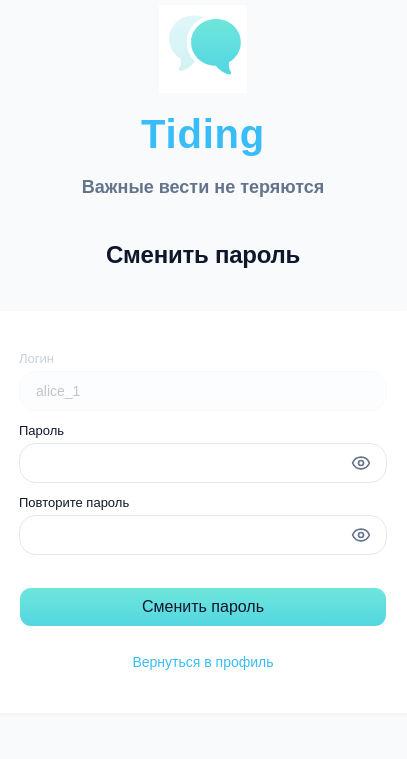
Scenario: ChangePasswordPage › shows a notice after a valid password form
In the password field labelled "Пароль": x=203, y=463 [19,443,387,483], type "correct-horse-battery"
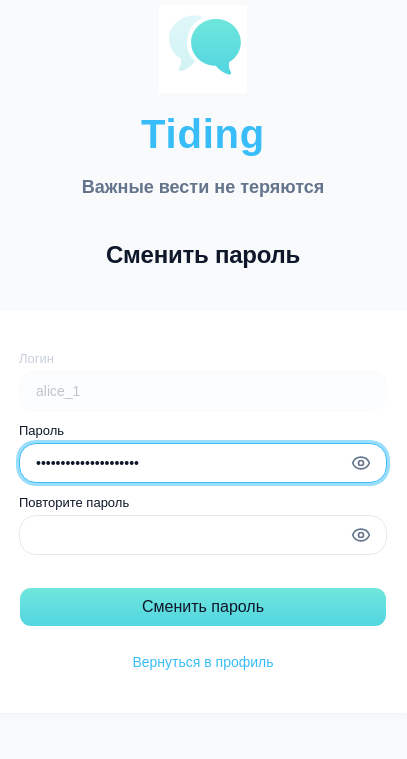
In the password field labelled "Повторите пароль": x=203, y=535 [19,515,387,555], type "correct-horse-battery"
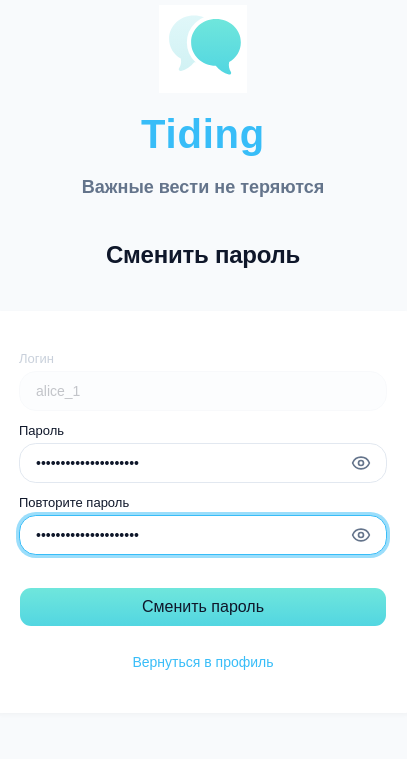
Click the button "Сменить пароль": x=203, y=607 [19,587,387,627]
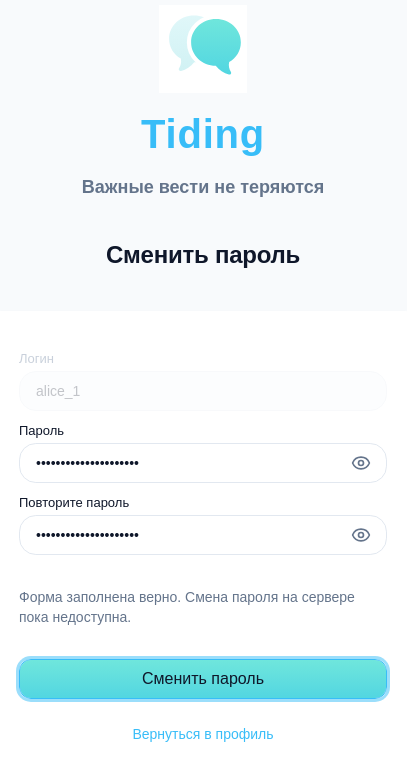
Expected: the message shows "пока недоступна", [19,589,355,625]
